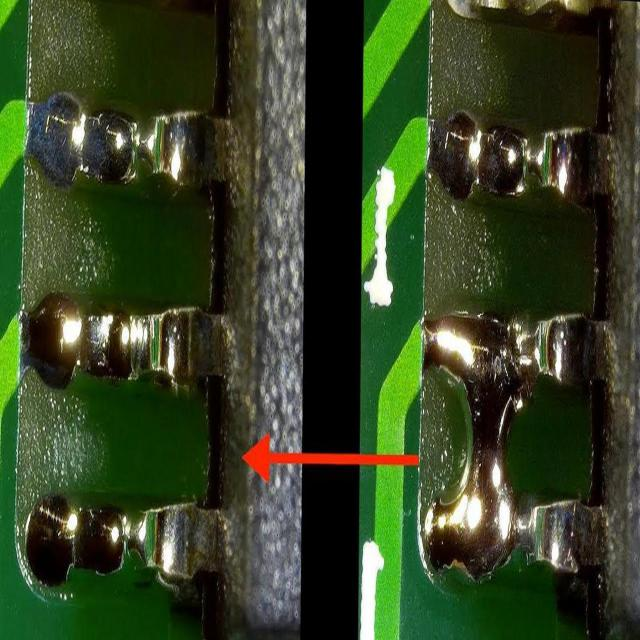Short_circuit: (425, 315, 524, 574)
